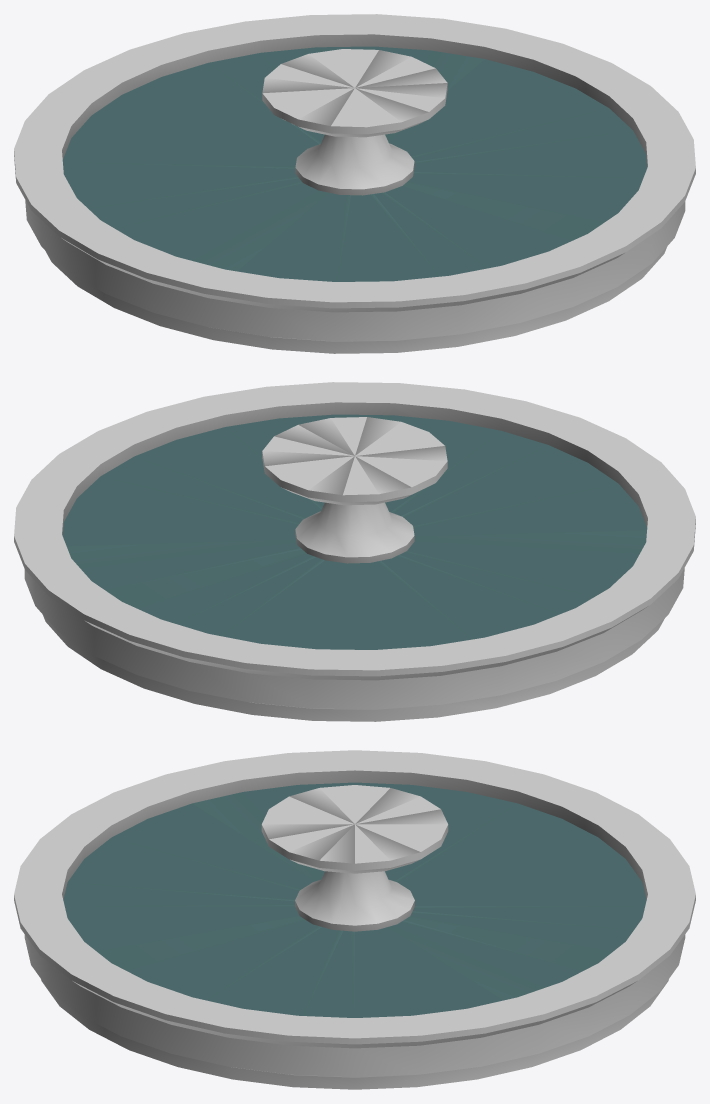
The model's file is basin.glb.
3 views of the same model, one above another, from view 1: azimuth 30°, elevation 25°; view 2: azimuth 150°, elevation 25°; view 3: azimuth 270°, elevation 25° (orthographic).
Visible parts, largest first — view 1: basin_CL_Stone, basin_CL_Water; view 2: basin_CL_Stone, basin_CL_Water; view 3: basin_CL_Stone, basin_CL_Water.
Boxes of the visible parts, bbox=[...] form: basin_CL_Stone: bbox=[14, 14, 695, 353]; basin_CL_Water: bbox=[62, 46, 647, 281]; basin_CL_Stone: bbox=[14, 382, 695, 721]; basin_CL_Water: bbox=[62, 414, 647, 649]; basin_CL_Stone: bbox=[14, 750, 695, 1089]; basin_CL_Water: bbox=[63, 782, 646, 1017].
Size of the model in its own units: 5.12 by 1.08 by 5.12.
